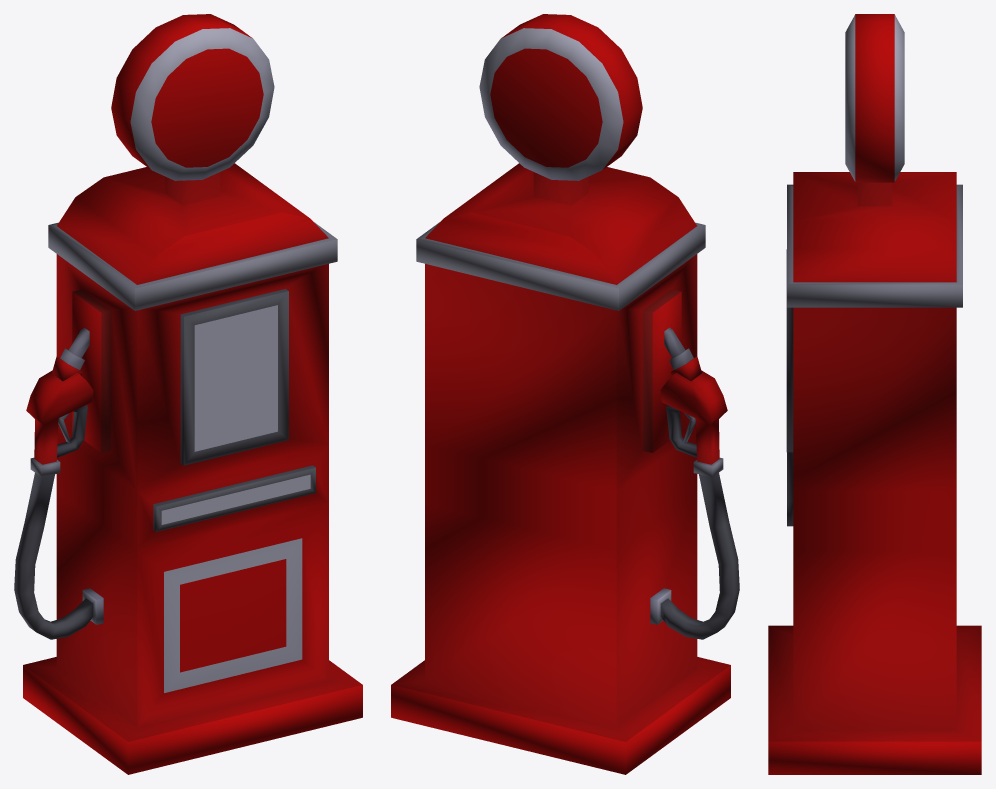
3 views of the same model, side by side, from view 1: azimuth 30°, elevation 25°; view 2: azimuth 150°, elevation 25°; view 3: azimuth 270°, elevation 25° (orthographic).
Visible parts, largest first — view 1: GasPump; view 2: GasPump; view 3: GasPump.
Boxes of the visible parts, <box> form: GasPump: <box>14,14,362,774</box>; GasPump: <box>391,14,739,774</box>; GasPump: <box>768,14,981,774</box>.
Size of the model in its own units: 0.2231 by 0.5 by 0.1391.
